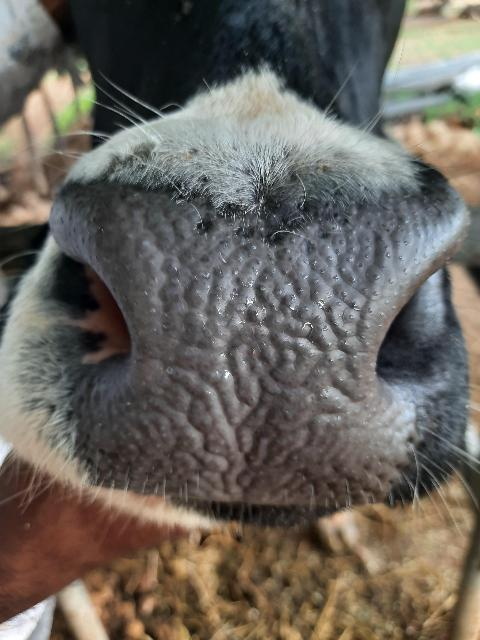Muzzle: (62, 185, 434, 493)
